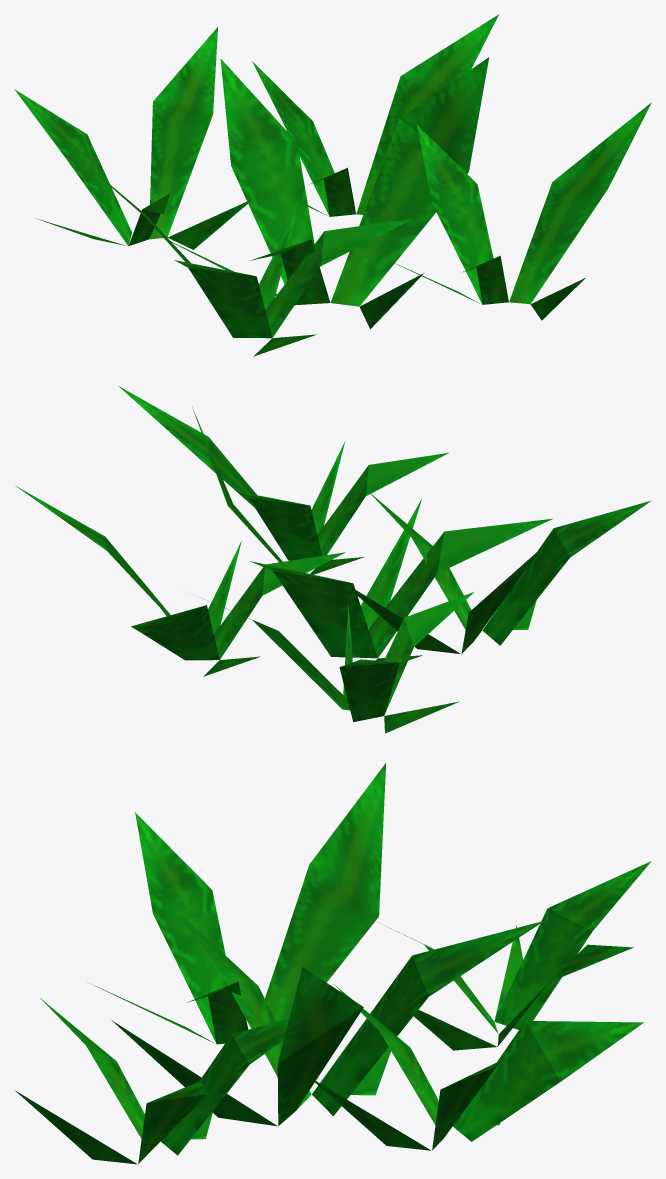
Rendered from grass.glb.
3 renders of one model, top to bottom at view 1: azimuth 30°, elevation 25°; view 2: azimuth 150°, elevation 25°; view 3: azimuth 270°, elevation 25°, orthographic. The views are drawn at different scales.
Parts seen in each view (by area): view 1: Plane; view 2: Plane; view 3: Plane.
Boxes of the visible parts, x1,y1,x2,y2 form: Plane: (14, 14, 651, 356); Plane: (16, 386, 651, 733); Plane: (14, 763, 651, 1164).
Size of the model in its own units: 0.7302 by 0.2825 by 0.6863.
Materials: 1 (1 with a texture image).
